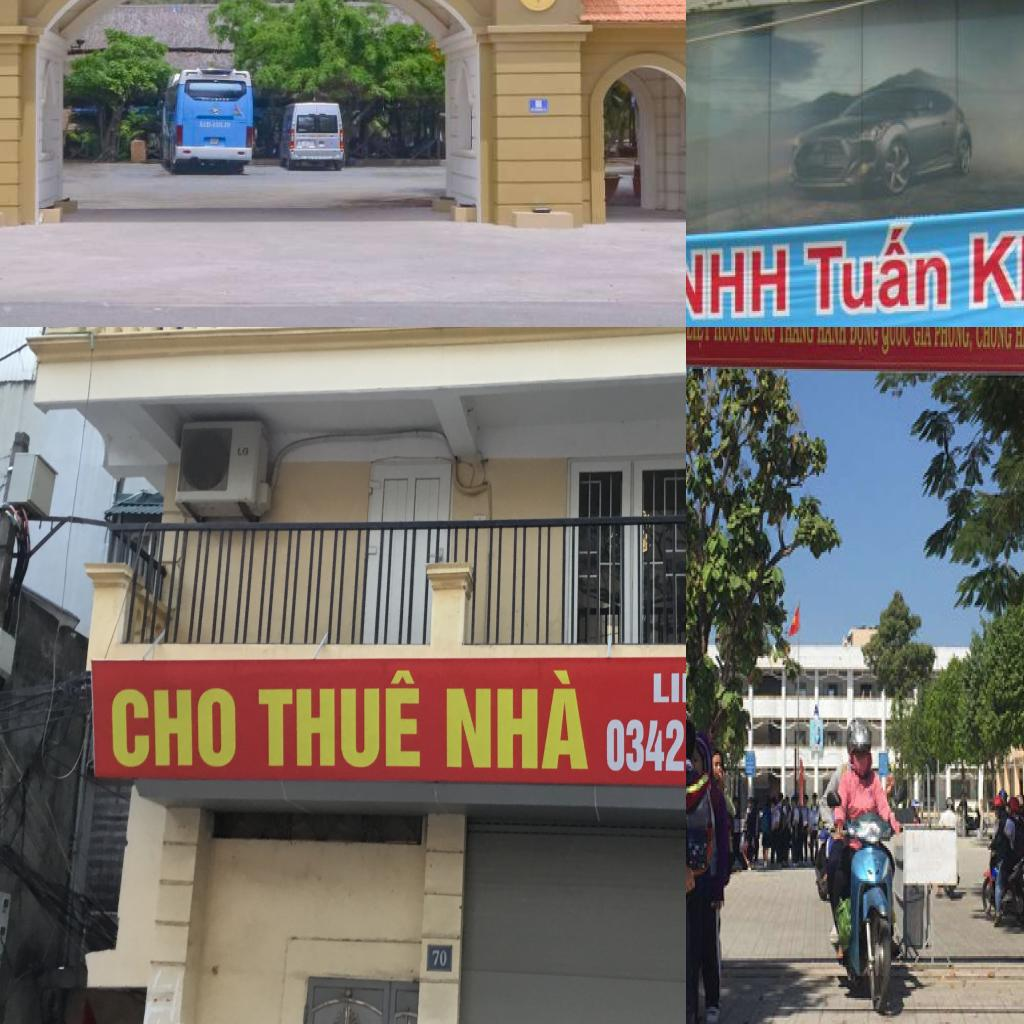text: (256, 668, 422, 770), (799, 217, 956, 323), (439, 666, 590, 770), (108, 683, 239, 770), (686, 236, 793, 327), (963, 217, 1024, 314), (603, 714, 686, 777), (648, 664, 686, 706), (933, 327, 975, 355), (975, 327, 1013, 356), (880, 327, 912, 358), (848, 327, 880, 353), (712, 327, 752, 347), (779, 327, 815, 347), (816, 327, 848, 349), (686, 327, 712, 351), (912, 327, 933, 349), (752, 327, 777, 345), (431, 947, 447, 968), (236, 444, 250, 460)
